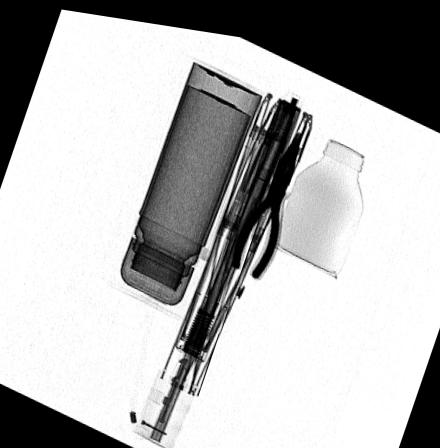Pliers: (231, 120, 303, 270)
